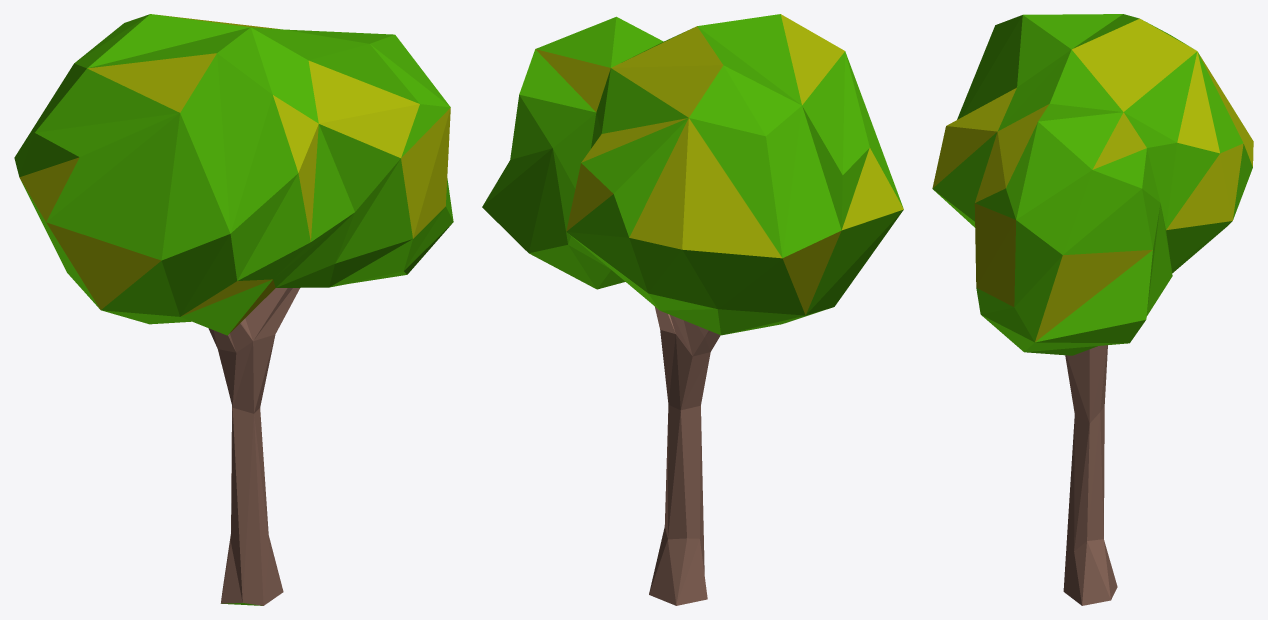
Rendered from tree_1.fbx.
The picture shows the model from 3 angles, left to right: view 1: azimuth 30°, elevation 25°; view 2: azimuth 150°, elevation 25°; view 3: azimuth 270°, elevation 25°; orthographic projection. The views are drawn at different scales.
Parts seen in each view (by area): view 1: Tree_1; view 2: Tree_1; view 3: Tree_1.
Boxes of the visible parts, x1,y1,x2,y2 form: Tree_1: [14, 14, 453, 605]; Tree_1: [482, 14, 903, 605]; Tree_1: [932, 14, 1253, 605].
Size of the model in its own units: 3.27 by 4.68 by 2.49.
